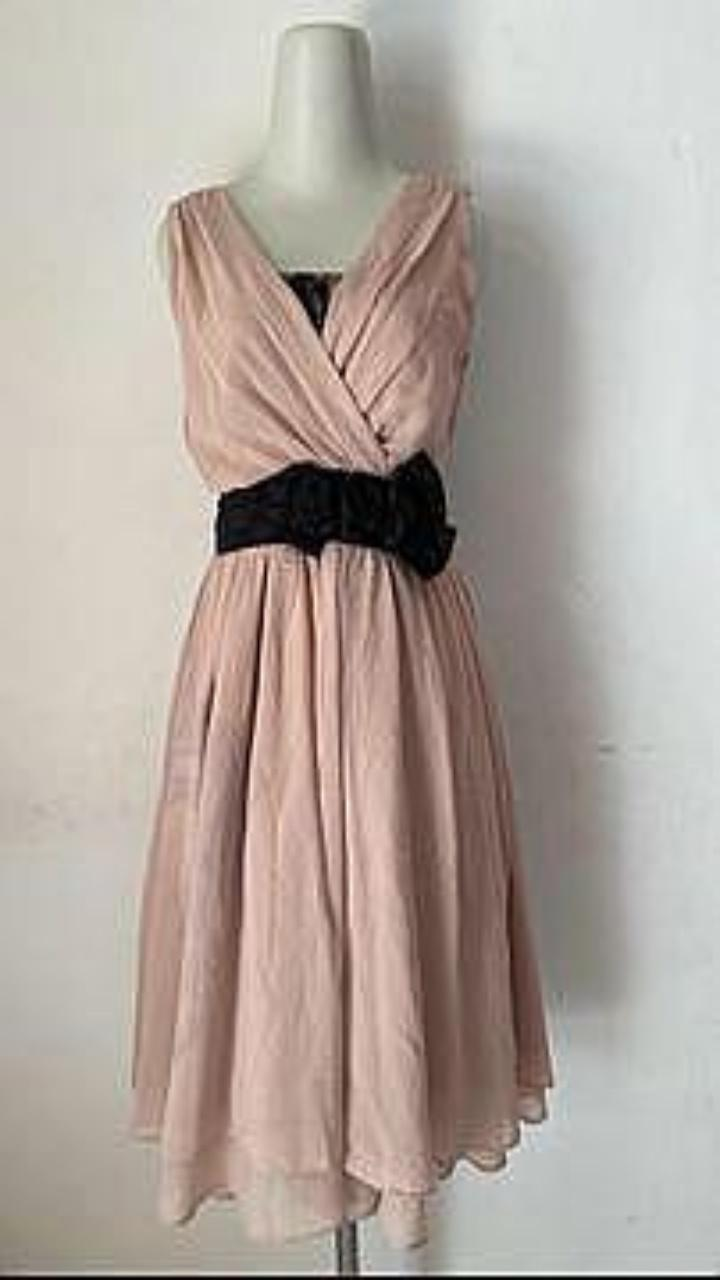Dresses: (132, 541, 552, 1245)
